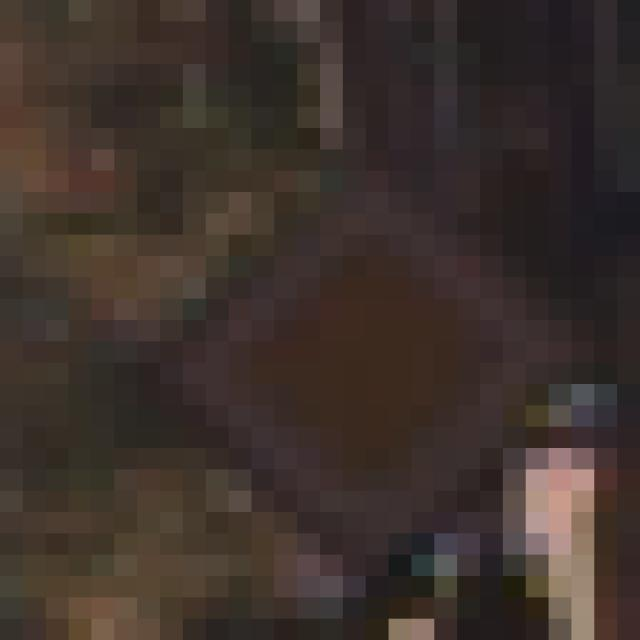Main Road: (138, 129, 527, 534)
